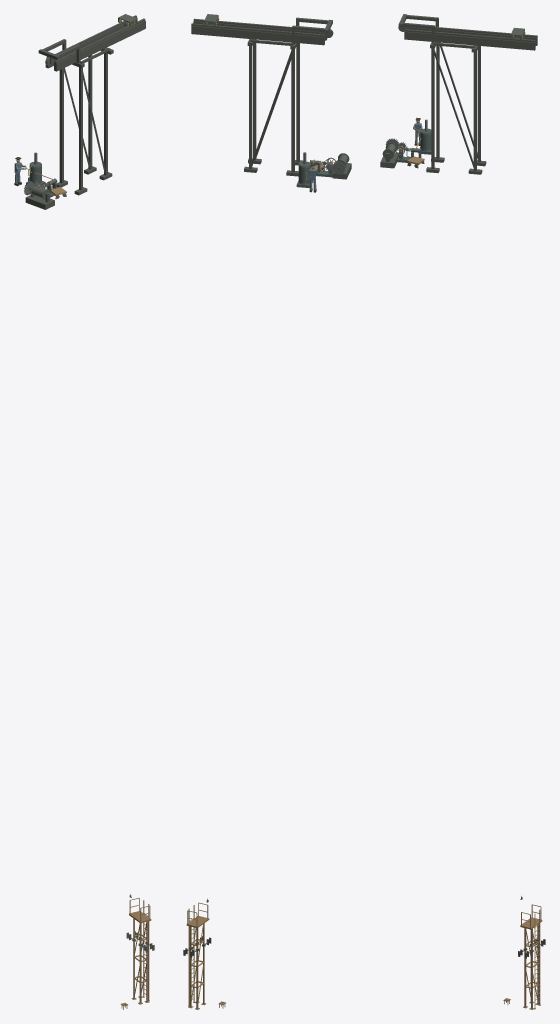
File: second-floor-relay.glb
The picture shows the model from 3 angles, left to right: view 1: azimuth 30°, elevation 25°; view 2: azimuth 150°, elevation 25°; view 3: azimuth 330°, elevation 25°; orthographic projection.
Visible parts, largest first — view 1: girder--1.007, post-1-1.007, post-0-1.007, post-1--1.007, post-0--1.007; view 2: girder-1.007, post-1-1.007, post-0-1.007, post-1--1.007, post-0--1.007, rail-1.007; view 3: girder--1.007, post-1--1.007, post-0--1.007, post-0-1.007, post-1-1.007, rail--1.007.
Part boxes in pixels (x1,y1,x2,y2): girder--1.007: (54,20,145,71); post-1-1.007: (59,68,63,183); post-0-1.007: (88,55,92,169); post-1--1.007: (79,67,82,190); post-0--1.007: (104,53,107,175); girder-1.007: (191,26,324,45); post-1-1.007: (291,49,294,172); post-0-1.007: (249,46,252,168); post-1--1.007: (296,43,299,161); post-0--1.007: (253,39,256,160); rail-1.007: (191,23,324,36); girder--1.007: (404,31,535,50); post-1--1.007: (431,48,434,169); post-0--1.007: (473,51,476,170); post-0-1.007: (477,46,480,162); post-1-1.007: (436,42,439,158); rail--1.007: (404,29,535,42).
Bounding box in the file's own units: 10.05 × 68.33 × 4.9.
